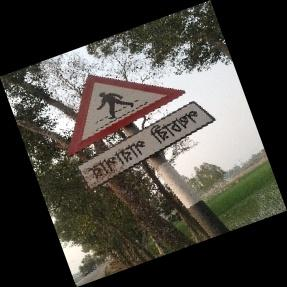Pedestrian-crossing: (66, 74, 215, 191)
